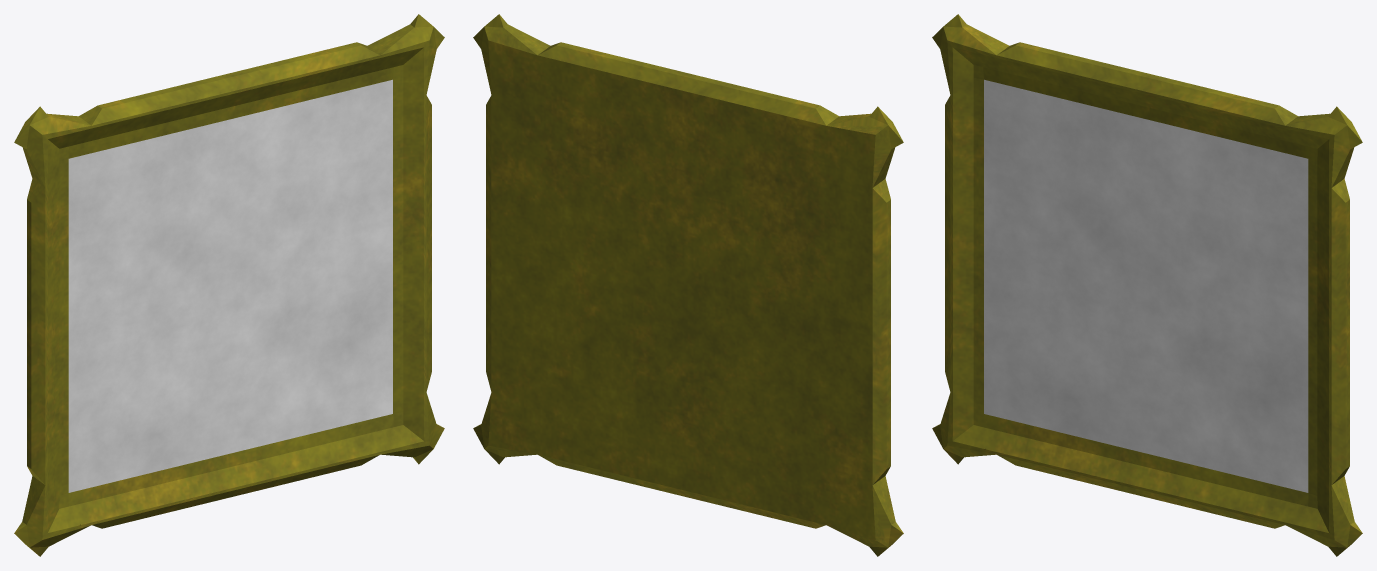
The model's file is Painting.fbx.
3 views of the same model, side by side, from view 1: azimuth 30°, elevation 25°; view 2: azimuth 150°, elevation 25°; view 3: azimuth 330°, elevation 25° (orthographic).
Parts seen in each view (by area): view 1: Painting; view 2: Painting; view 3: Painting.
Boxes of the visible parts, left/top/right/bottom form: Painting: left=14, top=14, right=444, bottom=556; Painting: left=473, top=14, right=903, bottom=556; Painting: left=932, top=14, right=1362, bottom=556.
Bounding box in the file's own units: 2.22 × 2.22 × 0.1166.
